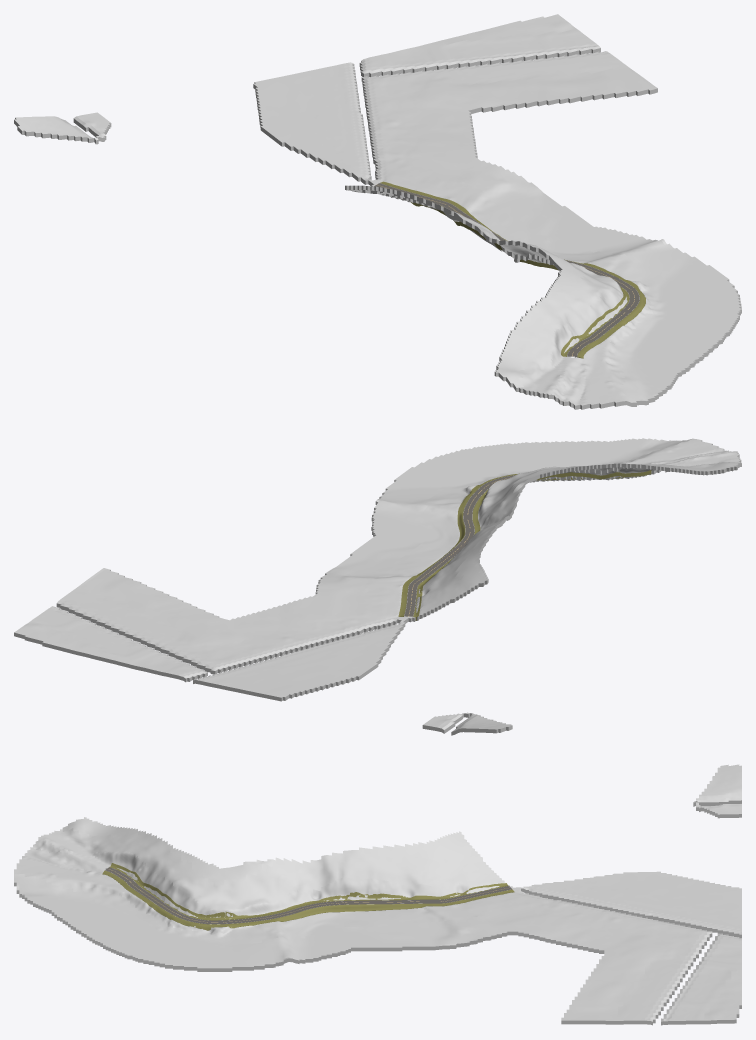
The model's file is conz_115.glb.
The picture shows the model from 3 angles, top to bottom: view 1: azimuth 30°, elevation 25°; view 2: azimuth 150°, elevation 25°; view 3: azimuth 270°, elevation 25°; orthographic projection. The views are drawn at different scales.
Parts seen in each view (by area): view 1: terrain115, road115, verge115R, verge115L; view 2: terrain115, road115, verge115L, verge115R; view 3: terrain115, verge115R, road115, verge115L.
Part boxes in pixels (x1,y1,x2,y2): terrain115: (14,14,741,409); road115: (374,183,639,356); verge115R: (380,181,645,358); verge115L: (402,199,629,356); terrain115: (14,438,741,735); road115: (404,475,515,616); verge115L: (413,470,651,620); verge115R: (398,473,519,616); terrain115: (14,764,741,1025); verge115R: (102,870,514,930); road115: (105,867,511,924); verge115L: (109,863,508,920).
Bounding box in the file's own units: 410 × 37.31 × 540.
